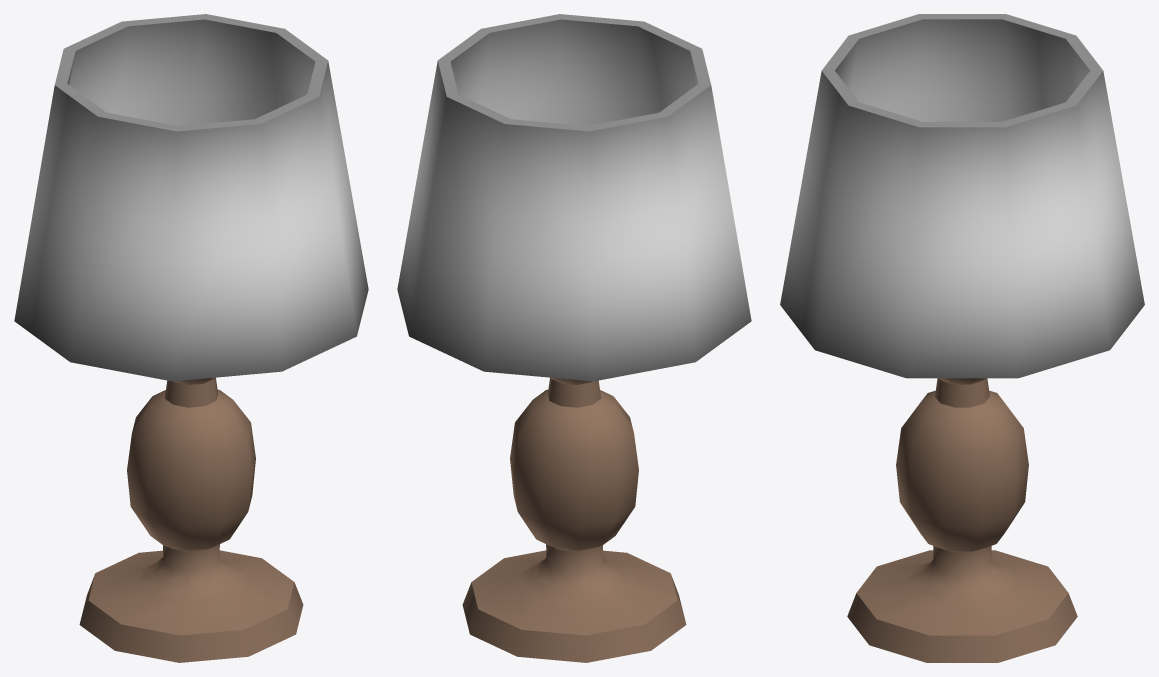
The model's file is TableLamp_01.fbx.
The picture shows the model from 3 angles, left to right: view 1: azimuth 30°, elevation 25°; view 2: azimuth 150°, elevation 25°; view 3: azimuth 270°, elevation 25°; orthographic projection.
Visible parts, largest first — view 1: TableLamp_01; view 2: TableLamp_01; view 3: TableLamp_01.
Boxes of the visible parts, box(x1,y1,x2,y2) form: TableLamp_01: box(14, 14, 368, 662); TableLamp_01: box(397, 14, 751, 662); TableLamp_01: box(780, 14, 1144, 662).
Size of the model in its own units: 0.3059 by 0.5311 by 0.3217.
